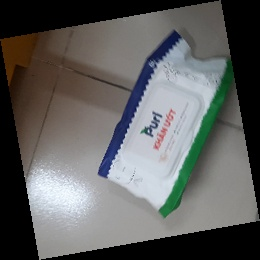Puri Trang: (93, 30, 239, 221)
